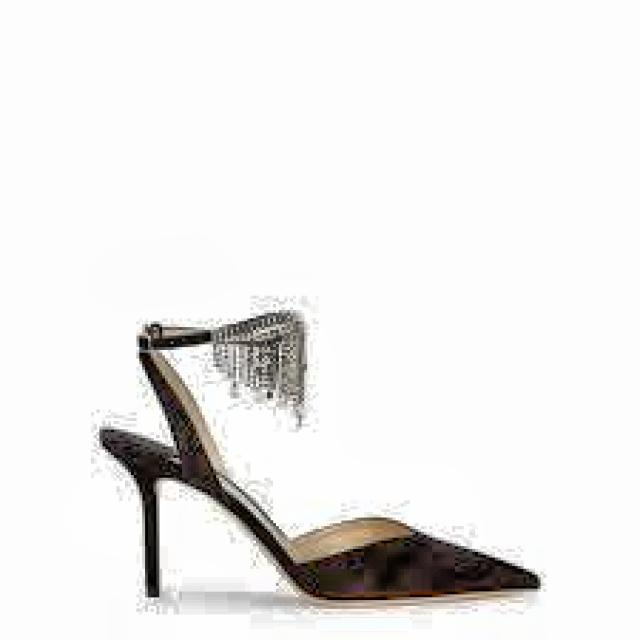shoes: (66, 278, 562, 630)
